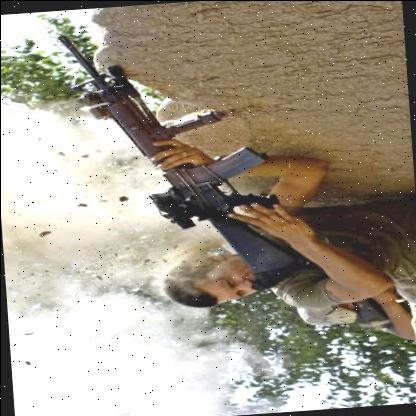rifle: (52, 17, 319, 290)
